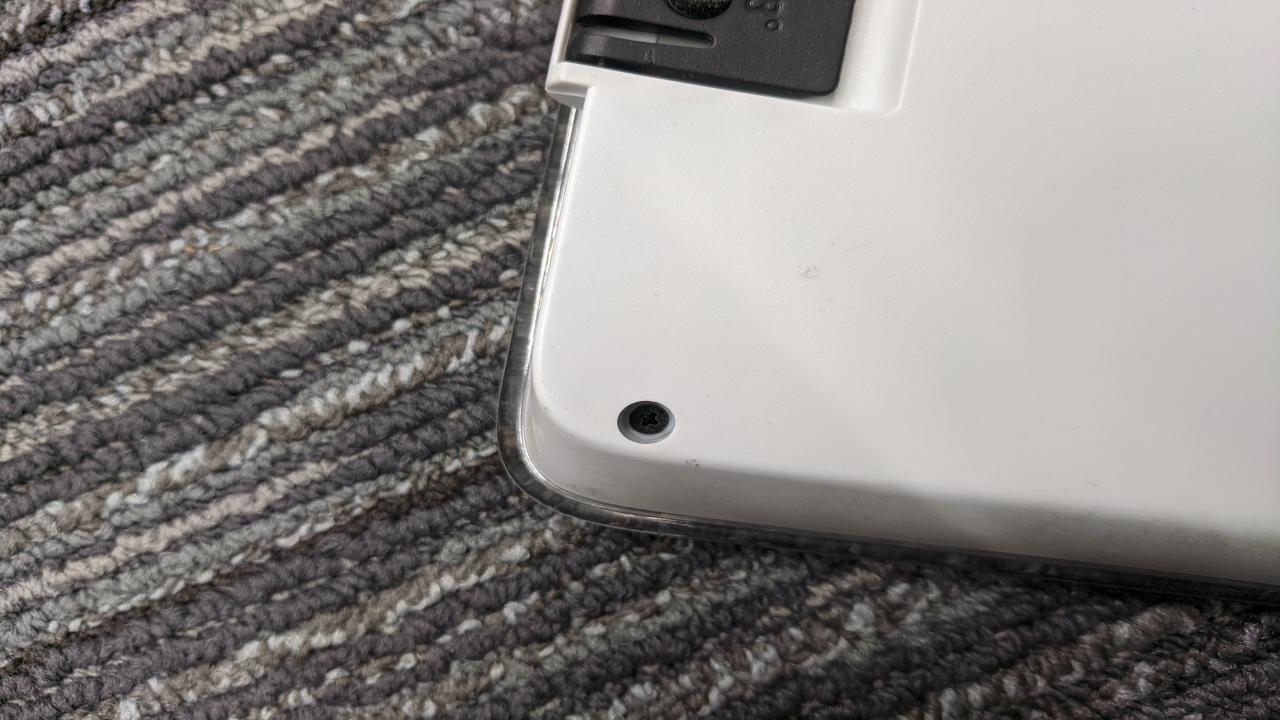CRS: (625, 400, 675, 437)
